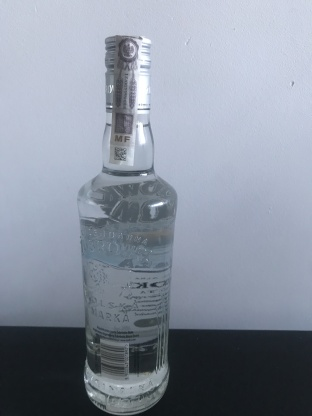nakretka: (102, 31, 154, 118)
